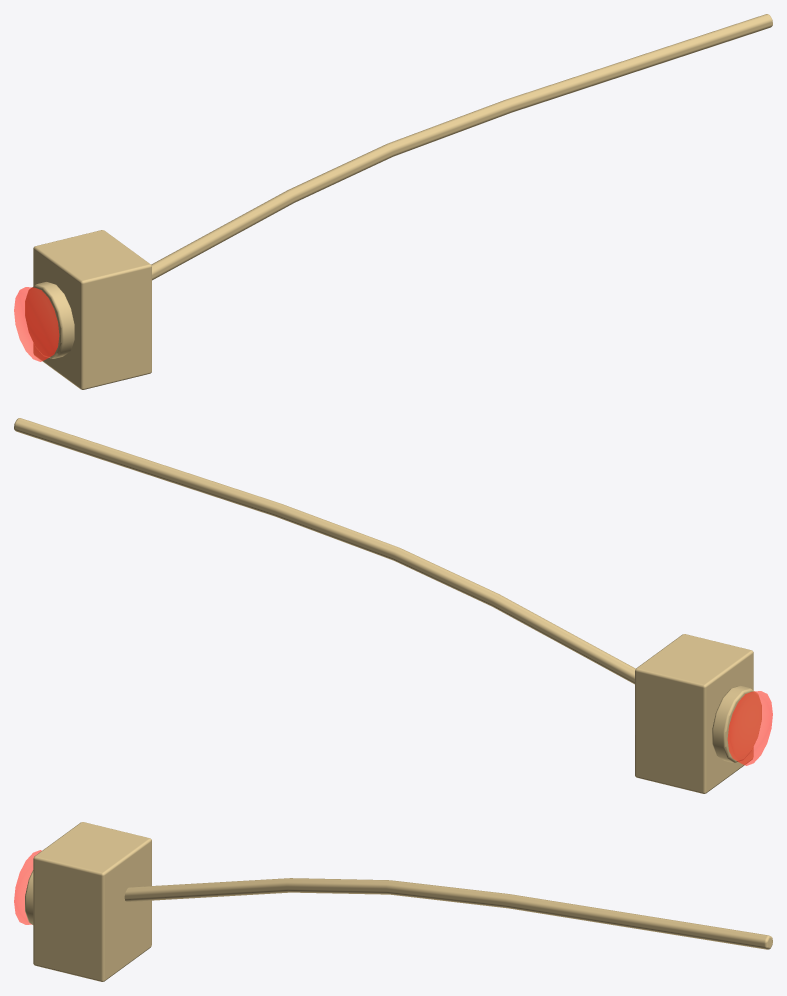
File: bike_pioneer__tail_light.glb
The picture shows the model from 3 angles, top to bottom: view 1: azimuth 30°, elevation 25°; view 2: azimuth 150°, elevation 25°; view 3: azimuth 330°, elevation 25°; orthographic projection.
Visible parts, largest first — view 1: electrical__tail_lamp, electrical__tail_lamp__lens; view 2: electrical__tail_lamp, electrical__tail_lamp__lens; view 3: electrical__tail_lamp, electrical__tail_lamp__lens.
Part boxes in pixels (bbox=[...]): electrical__tail_lamp: bbox=[25, 14, 772, 389]; electrical__tail_lamp__lens: bbox=[14, 287, 59, 361]; electrical__tail_lamp: bbox=[14, 418, 761, 793]; electrical__tail_lamp__lens: bbox=[727, 691, 772, 765]; electrical__tail_lamp: bbox=[25, 822, 772, 981]; electrical__tail_lamp__lens: bbox=[14, 850, 41, 924].
Size of the model in its own units: 31.31 by 7.46 by 3.6.
